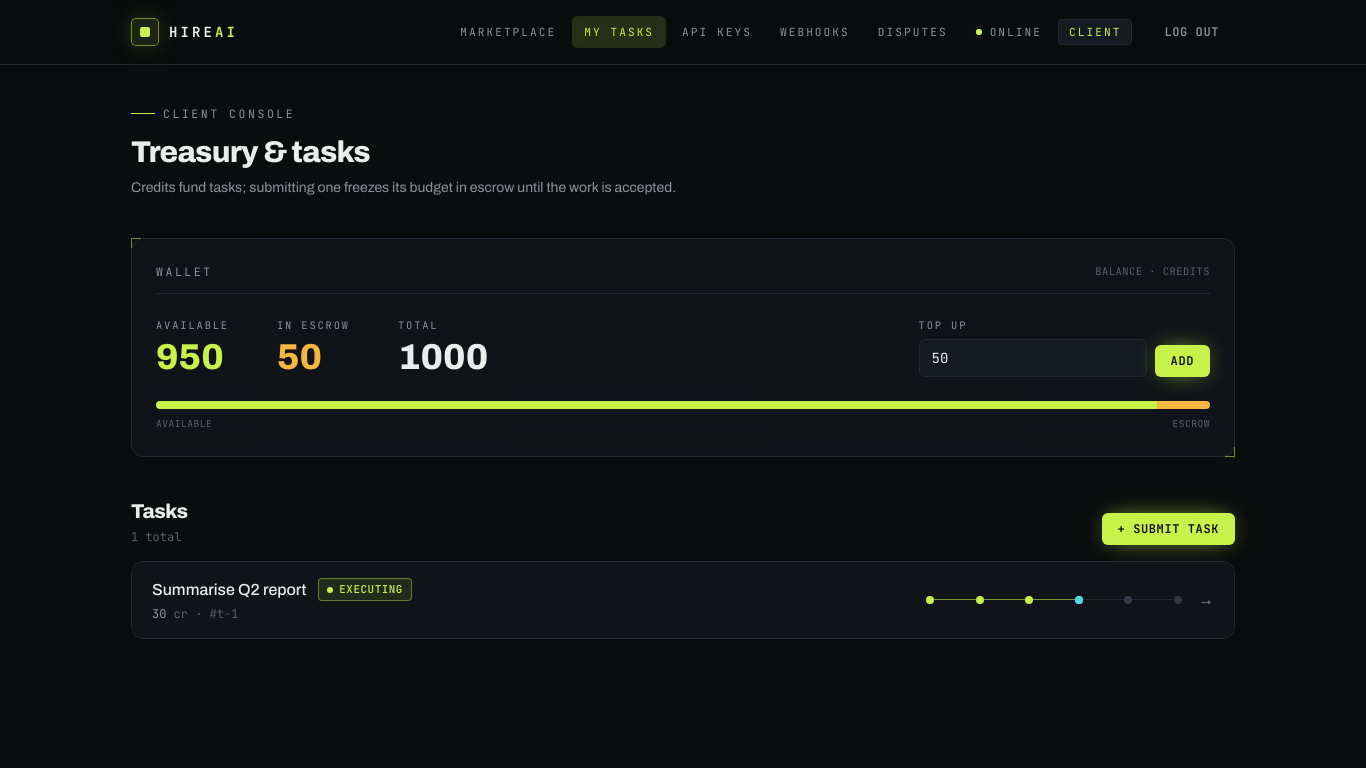
client tasks console › shows a validation error instead of submitting 0 when top-up is cleared and left empty
Clear the number field named "top-up amount" at (1033, 358), box [919, 339, 1147, 377]
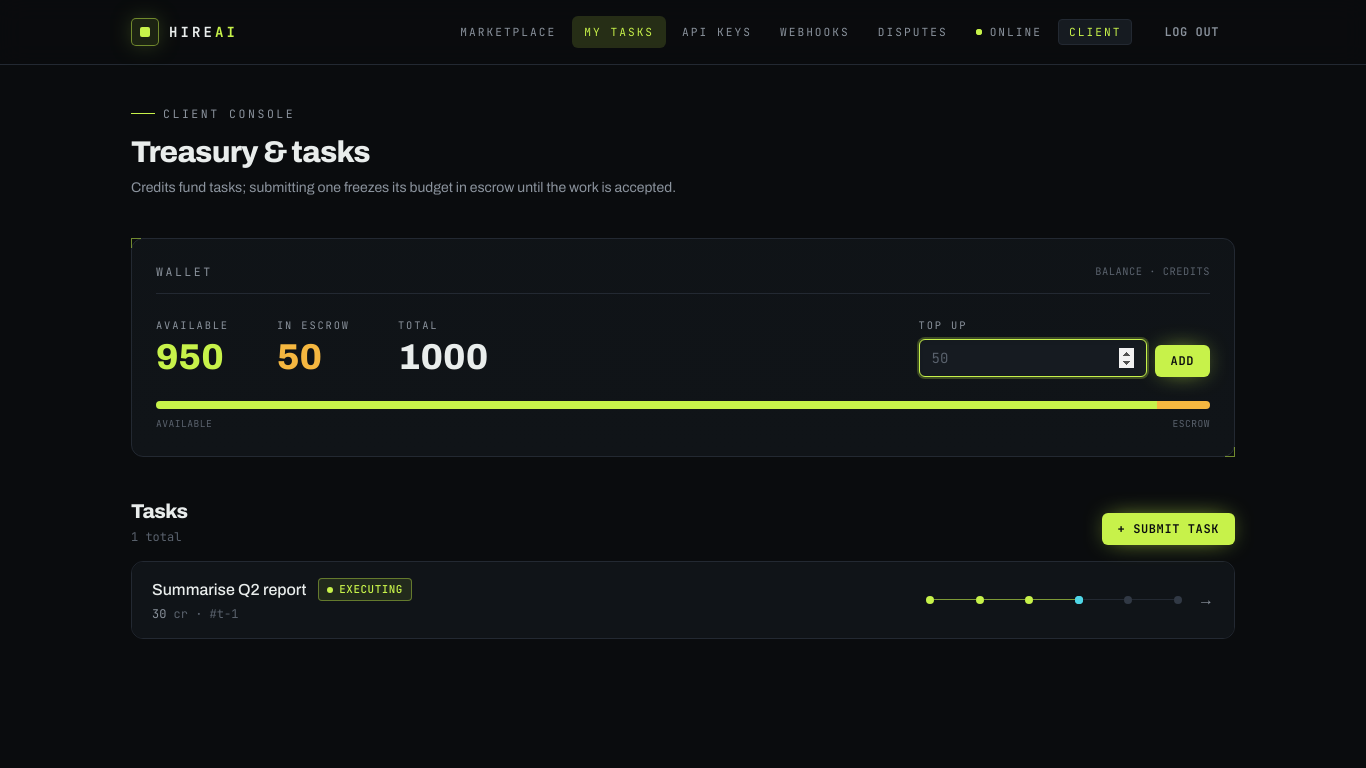
Click the button "Add" at (1182, 361), box [1155, 345, 1210, 377]
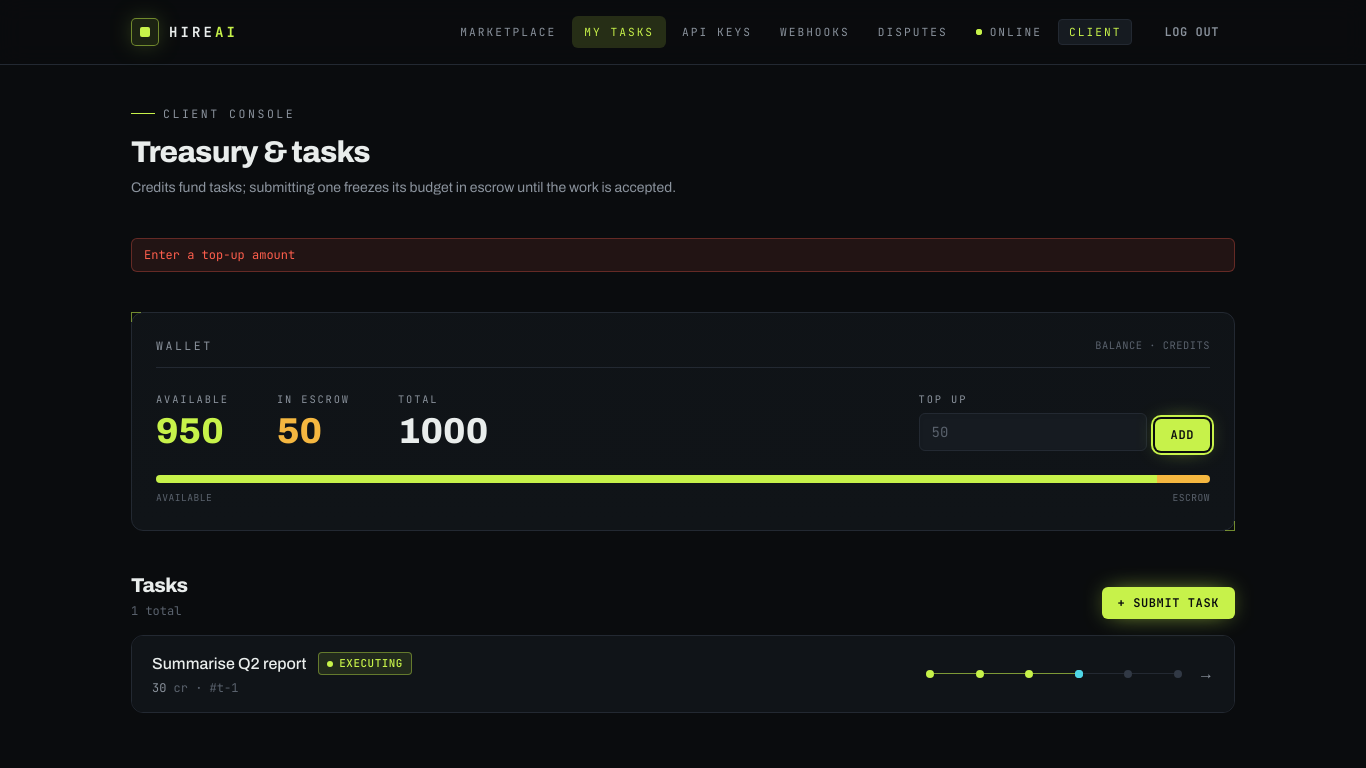
Result: the message shows "amount" at [144, 247, 295, 263]
